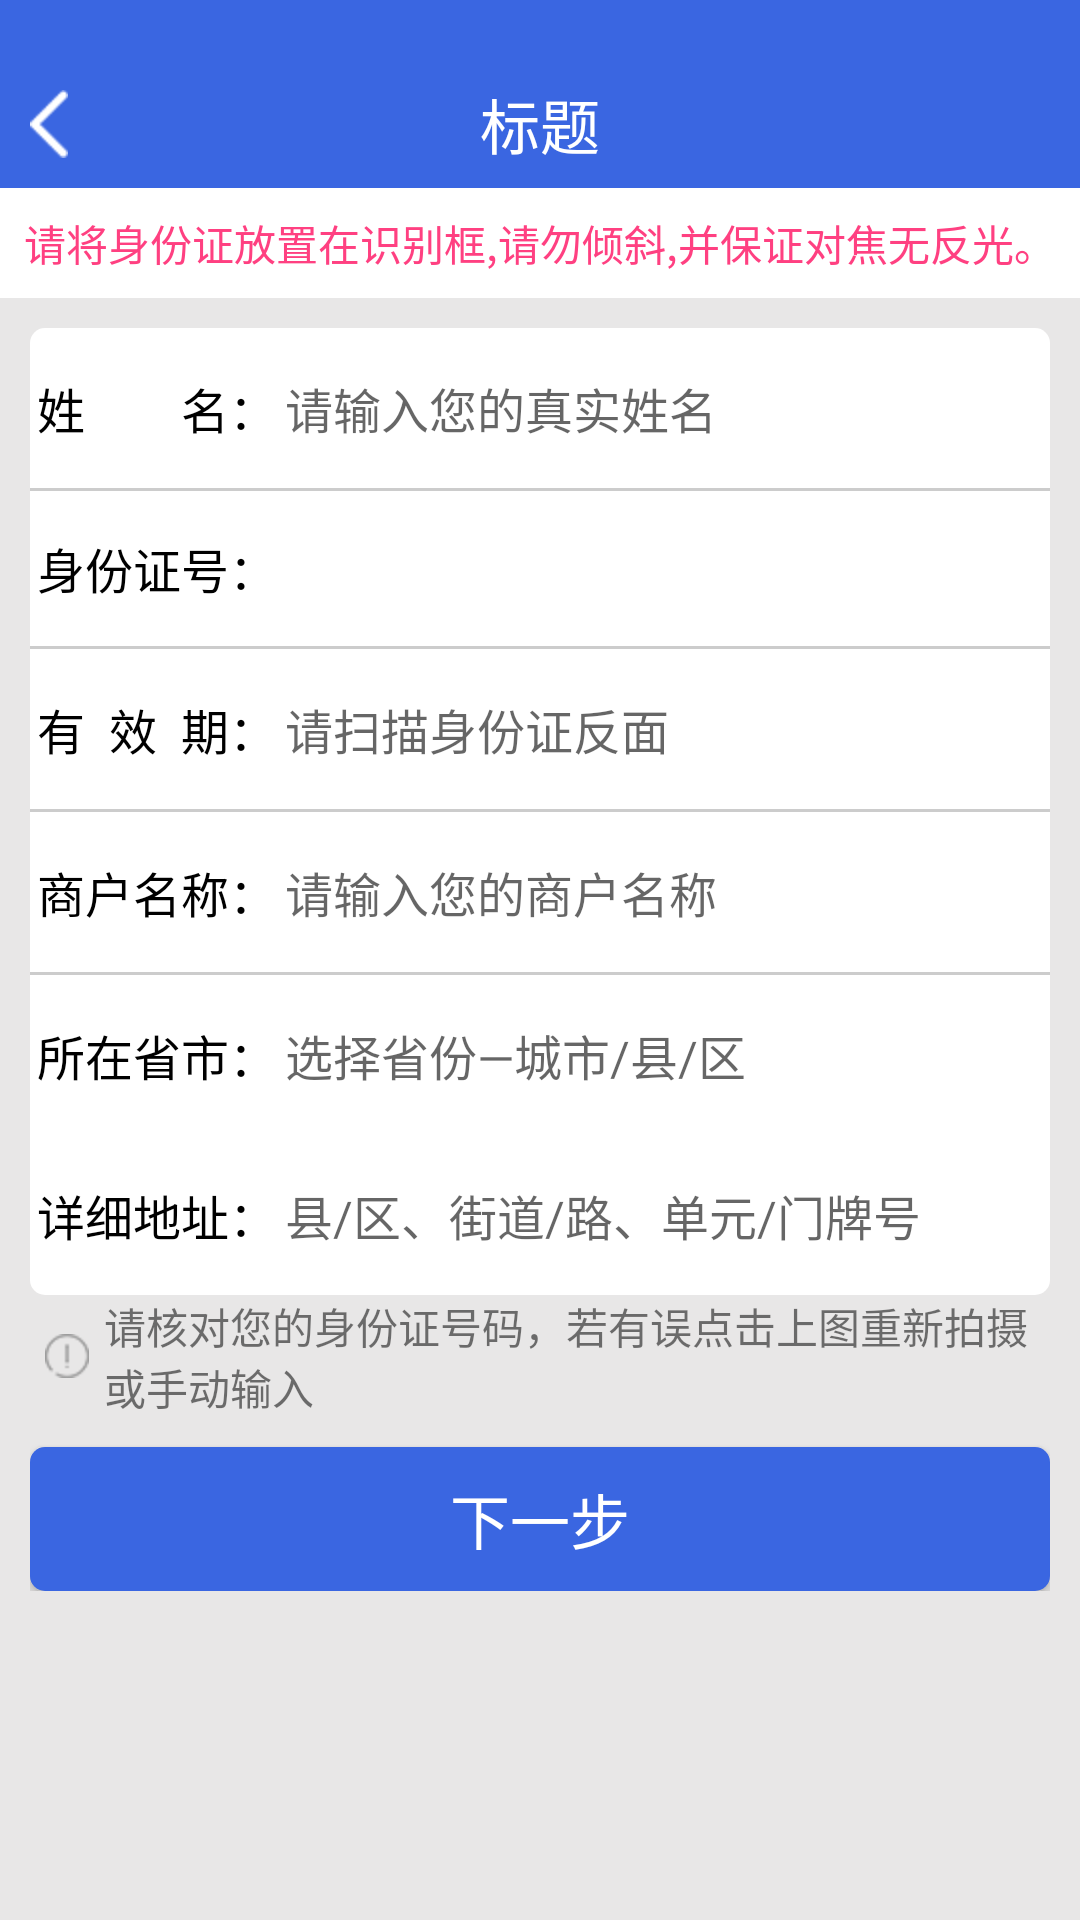

Screen size 1080 x 1920. Icon name, then its center in pixels as (x=x, y=y):
chevron left: (x=49, y=124)
warn: (x=67, y=1356)
